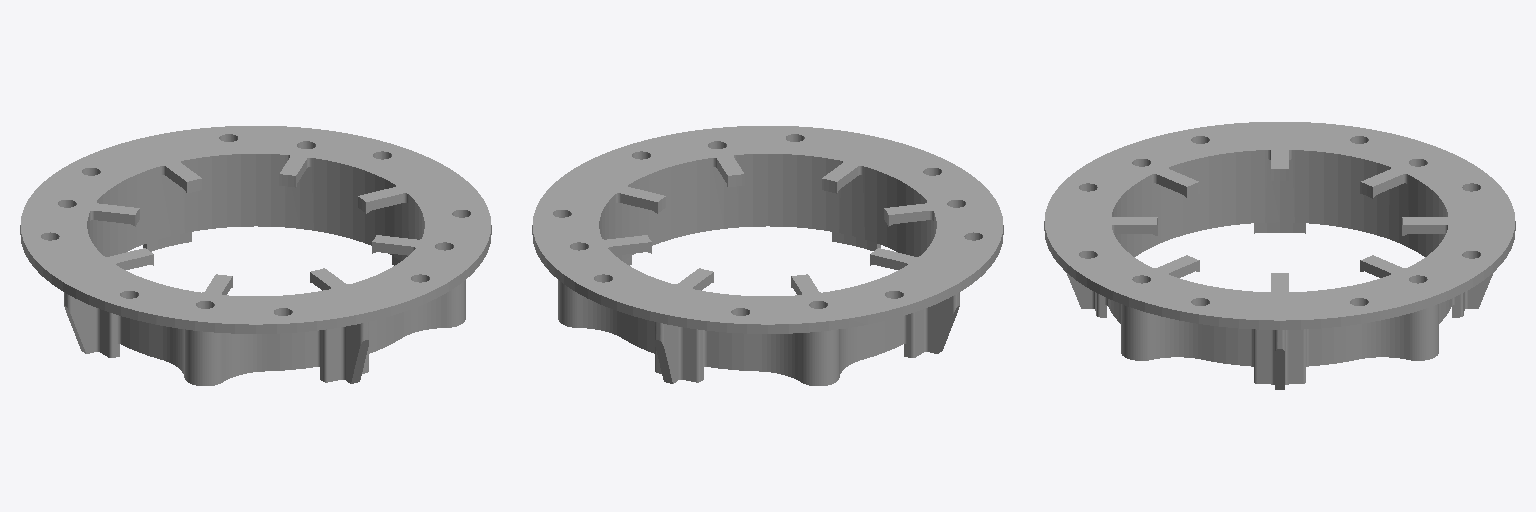
URDF robot description (L2_milled_Ro):
<robot name="L2_milled_Ro">
	<link name="baselink" />
	<joint name="dummy" type="fixed">
		<parent link="baselink" />
		<child link="geometry" />
	</joint>
	<link name="geometry">
		<contact>
			<lateral_friction value="1.0" />
			<spinning_friction value="0.2" />
			<rolling_friction value="0.001" />
			<contact_cfm value="0.0" />
			<contact_erp value="0.8" />
			<damping value="1000" />
			<stiffness value="30000" />
		</contact>
		<inertial>
			<origin rpy="0 0 0" xyz="-4.186913907608125e-15 0.009979623418208653 90.41789012075247" />
			<mass value="1.0" />
			<inertia ixx="1" ixy="0" ixz="0" iyy="1" iyz="0" izz="1" />
		</inertial>
		<visual>
			<origin rpy="0 0 0" xyz="0 0 0" />
			<geometry>
				<mesh filename="mesh/L2_milled_Ro.stl" />
			</geometry>
			<material name="base">
				<color rgba="0.7 0.7 0.7 1" />
			</material>
		</visual>
		<collision>
			<origin rpy="0 0 0" xyz="0 0 0" />
			<geometry>
				<mesh filename="mesh/L2_milled_Ro.stl" />
			</geometry>
		</collision>
	</link>
</robot>

--- Facts derived from the render (not from the file) ---
The picture shows the robot from 3 angles, left to right: view 1: azimuth 30°, elevation 25°; view 2: azimuth 150°, elevation 25°; view 3: azimuth 270°, elevation 25°; orthographic projection.
Model L2_milled_Ro with 2 links and 1 joints (1 fixed), rooted at baselink, posed every joint at zero.
Visible links, largest first — view 1: geometry; view 2: geometry; view 3: geometry.
Boxes of the visible links, <box> form: geometry: <box>20,126,491,385</box>; geometry: <box>532,126,1003,385</box>; geometry: <box>1044,122,1515,389</box>.
Size in the robot's own frame: 135 by 135 by 27 metres.
1 mesh visuals loaded from 1 distinct referenced files (1 binary STL).